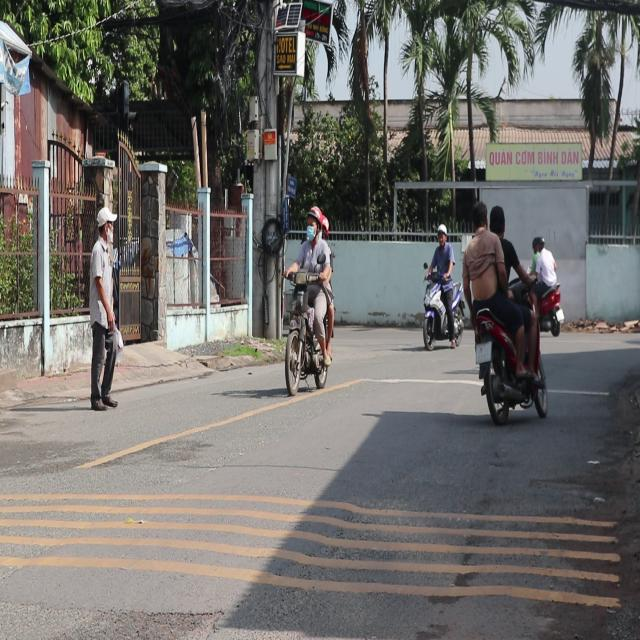helmet: (304, 205, 320, 239), (318, 212, 329, 238)
licenseplate: (462, 199, 548, 423), (280, 205, 337, 394), (84, 202, 124, 413)
motorcyclist: (469, 200, 488, 233), (488, 203, 506, 236)
nohelmet: (475, 341, 490, 360)
